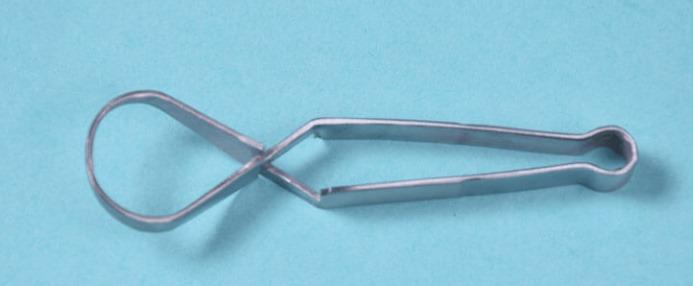Doyen Cross Action Towel Clamp: (82, 84, 644, 234)
